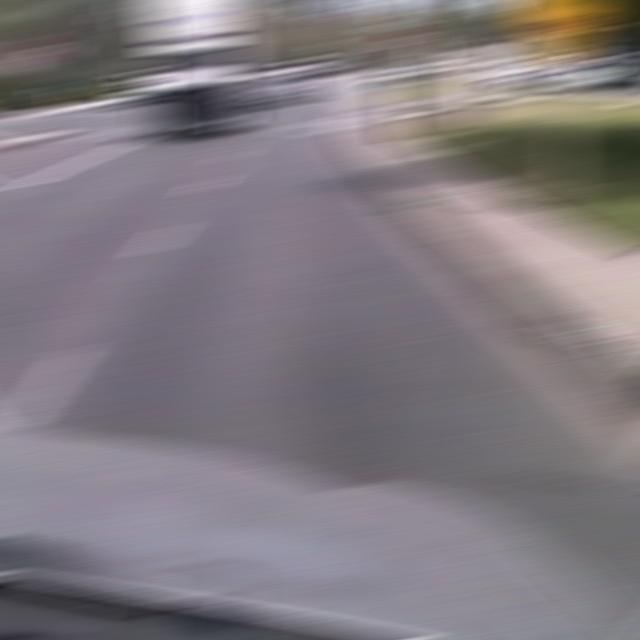stop: (18, 36, 58, 65), (383, 27, 423, 54)
